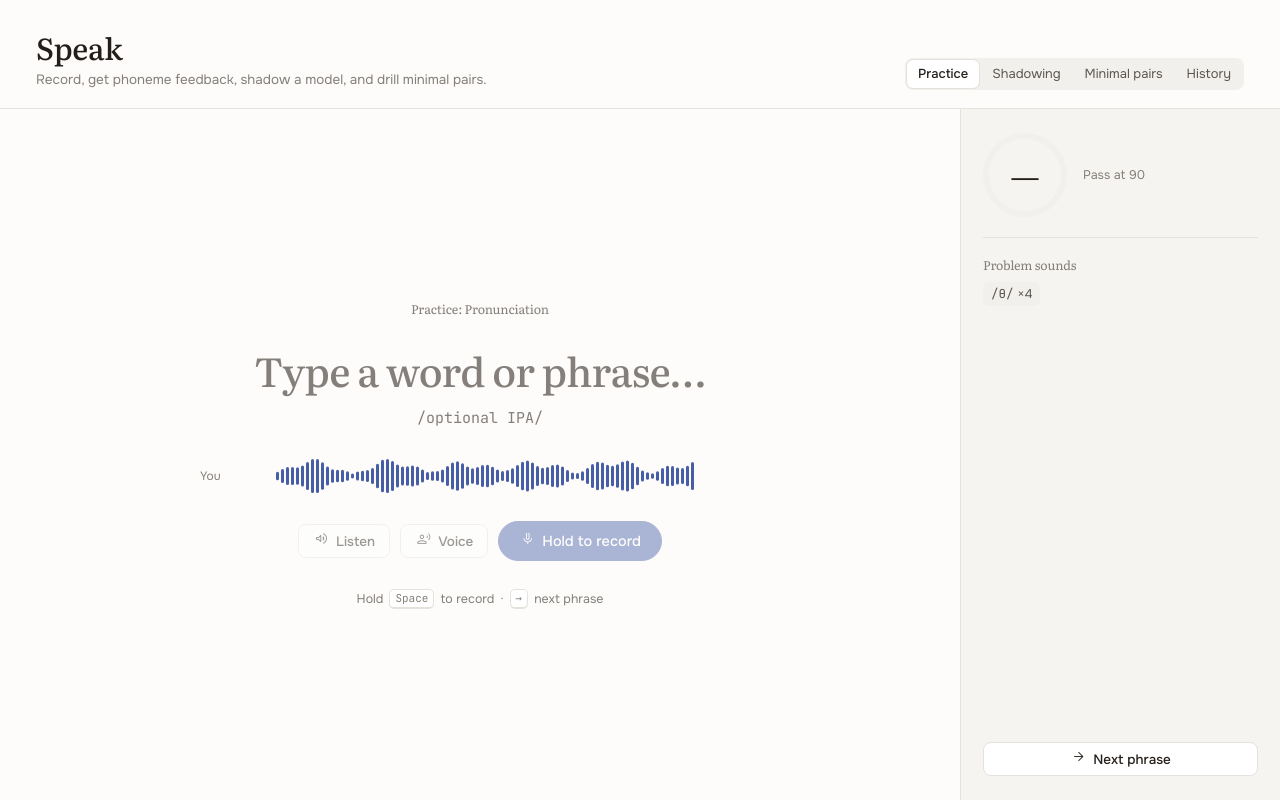
PronunciationPage › lists history attempts
Click the tab "History" at (1209, 74), box [1176, 60, 1242, 88]
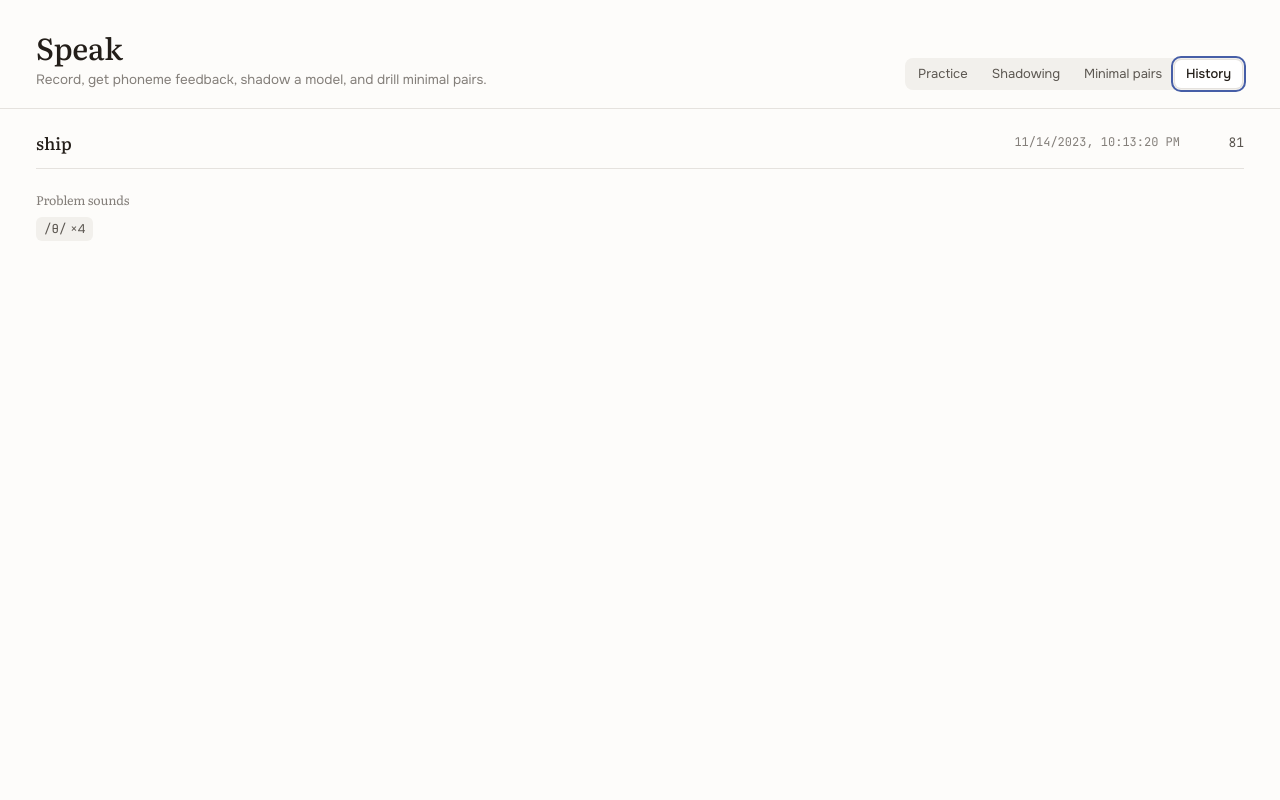
Check: the text "ship" is shown, box [36, 130, 72, 154]
Check: the text "81" is shown, box [1228, 134, 1244, 150]
